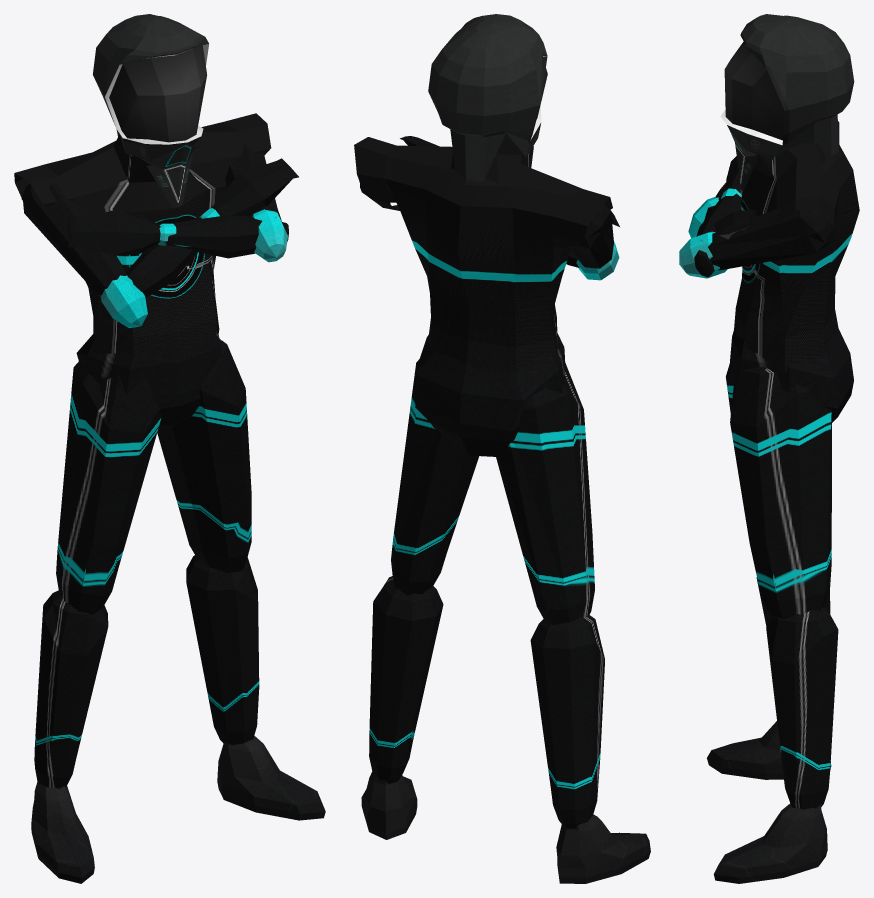
Rendered from StandingCrossArm.fbx.
3 views of the same model, side by side, from view 1: azimuth 30°, elevation 25°; view 2: azimuth 150°, elevation 25°; view 3: azimuth 270°, elevation 25° (orthographic). The views are drawn at different scales.
Visible parts, largest first — view 1: Body, Right_Thigh, Helmet, Left_Thigh, Left_Leg, Right_Leg, Pelvis, Left_Foot, Right_Foot, Right_Shoulder, Left_Hand, Left_Arm (+5 smaller); view 2: Body, Right_Thigh, Helmet, Right_Leg, Left_Leg, Pelvis, Left_Thigh, Right_Foot, Left_Foot, Right_Shoulder; view 3: Left_Thigh, Body, Helmet, Left_Leg, Left_Foot, Left_Shoulder, Pelvis, Right_Foot, Left_Arm, Left_Elbow, Right_Hand, Right_Elbow (+1 smaller).
Boxes of the visible parts, x1,y1,x2,y2 form: Body: (14,113,271,353); Right_Thigh: (56,359,161,614); Helmet: (93,14,208,207); Left_Thigh: (157,339,251,573); Left_Leg: (186,555,259,744); Right_Leg: (34,590,108,788); Pelvis: (76,332,222,431); Left_Foot: (217,736,325,820); Right_Foot: (31,782,94,883); Right_Shoulder: (21,183,126,295); Left_Hand: (68,210,160,255); Left_Arm: (165,215,288,258); Body: (354,137,612,372); Right_Thigh: (496,361,594,625); Helmet: (428,14,547,181); Right_Leg: (530,614,604,828); Left_Leg: (369,576,443,783); Pelvis: (414,333,565,457); Left_Thigh: (391,359,479,595); Right_Foot: (556,814,650,883); Left_Foot: (361,771,417,839); Right_Shoulder: (568,203,613,268); Left_Thigh: (730,367,831,619); Body: (734,121,859,371); Helmet: (720,14,854,191); Left_Leg: (766,606,838,809); Left_Foot: (713,803,827,883); Left_Shoulder: (708,205,833,270); Pelvis: (729,329,853,422); Right_Foot: (707,721,831,779); Left_Arm: (694,193,741,277); Left_Elbow: (679,231,727,278); Right_Hand: (714,209,757,239); Right_Elbow: (688,196,718,238).
Size of the model in its own units: 4.26 by 12.28 by 2.51.
